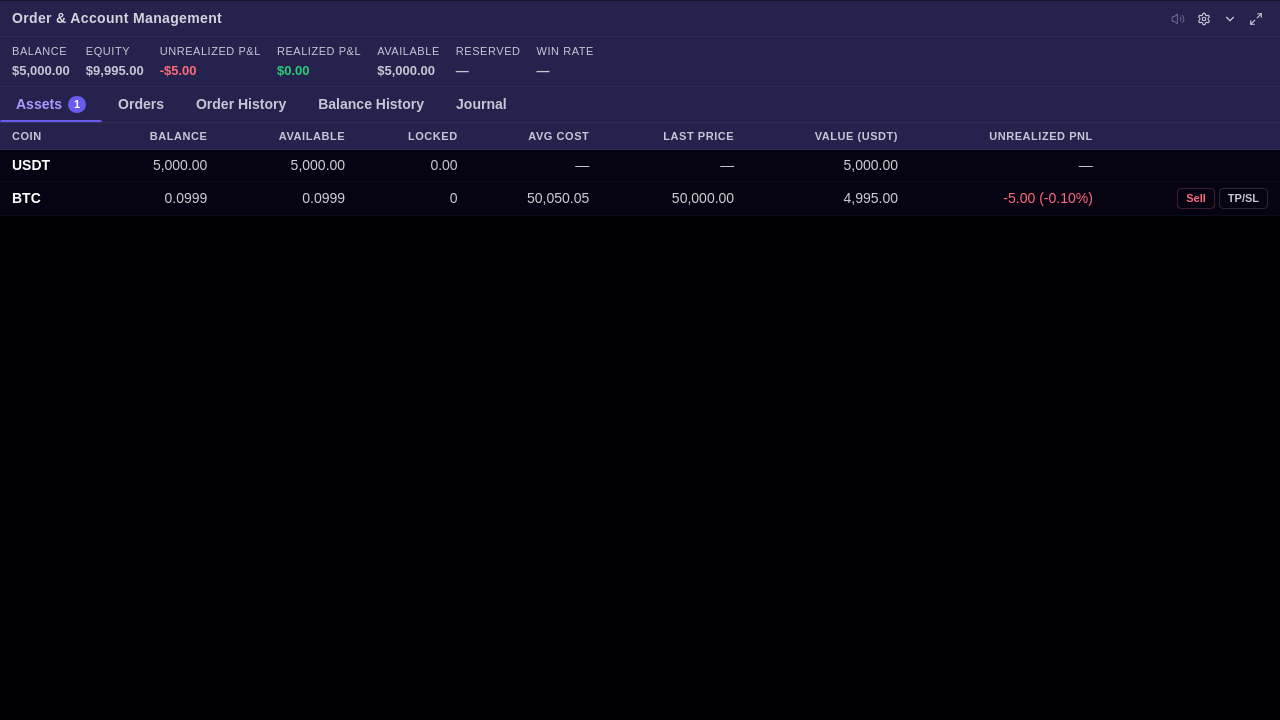
SpotExitsModal — Assets → TP / SL (14.6.7) › [14.6.7] should refuse without asking the server when the quantity is more than the free balance
The width and height of the screenshot is (1280, 720).
Click the button "TP/SL".
click(1243, 198)  # box [1219,188,1268,209]
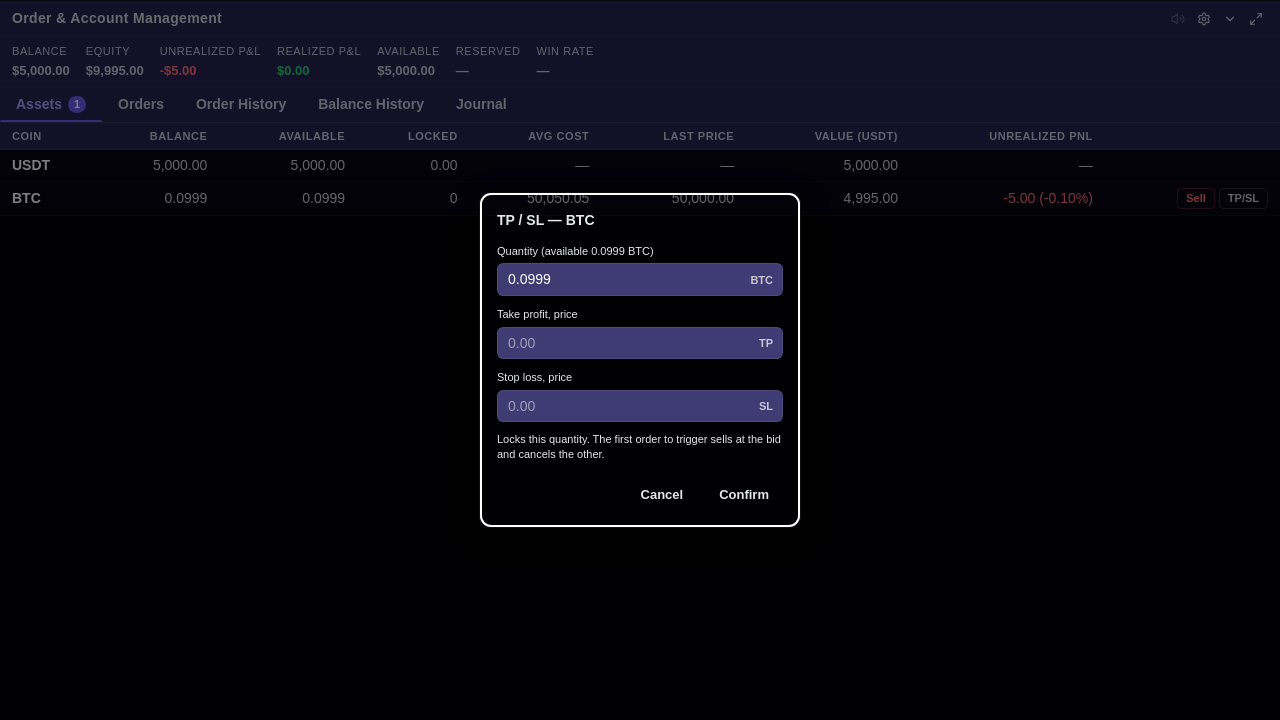
Replace the text in the number field named "Quantity" with "0.1" at (640, 280), box [497,263,783,296]
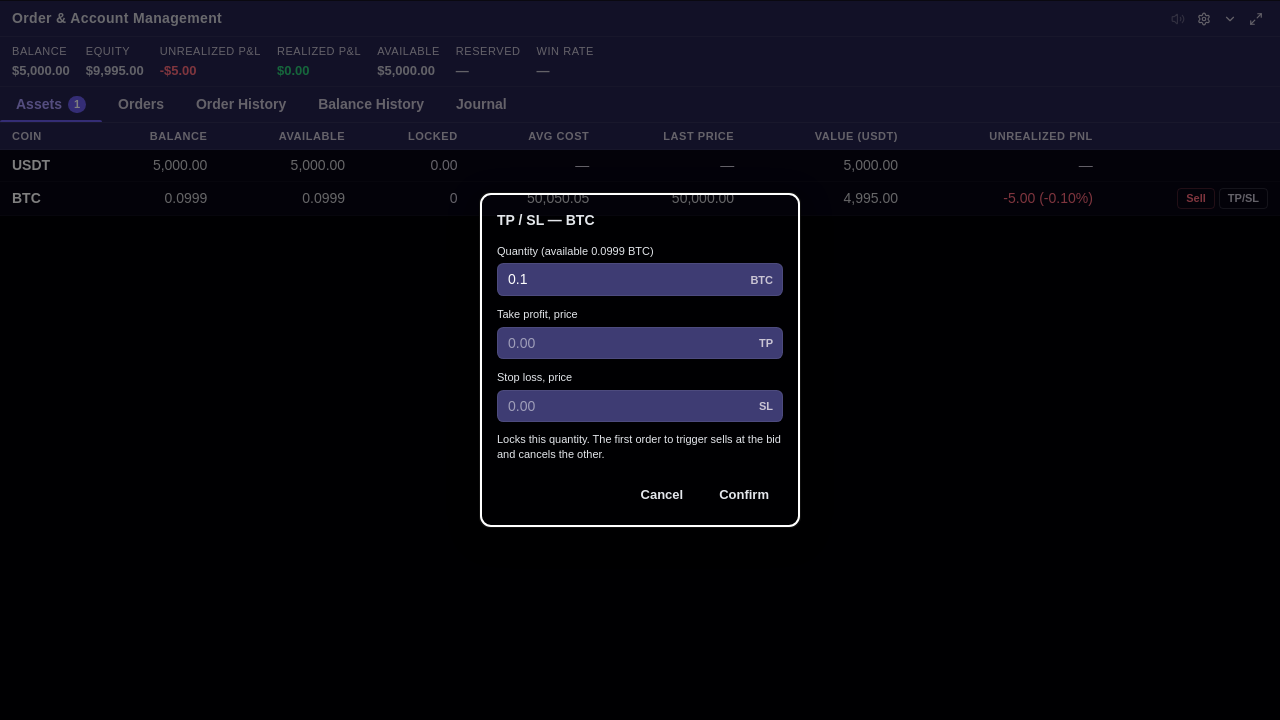
Type "52000" into the number field named "Take profit price".
click(640, 343); type("52000")  # box [497,326,783,359]
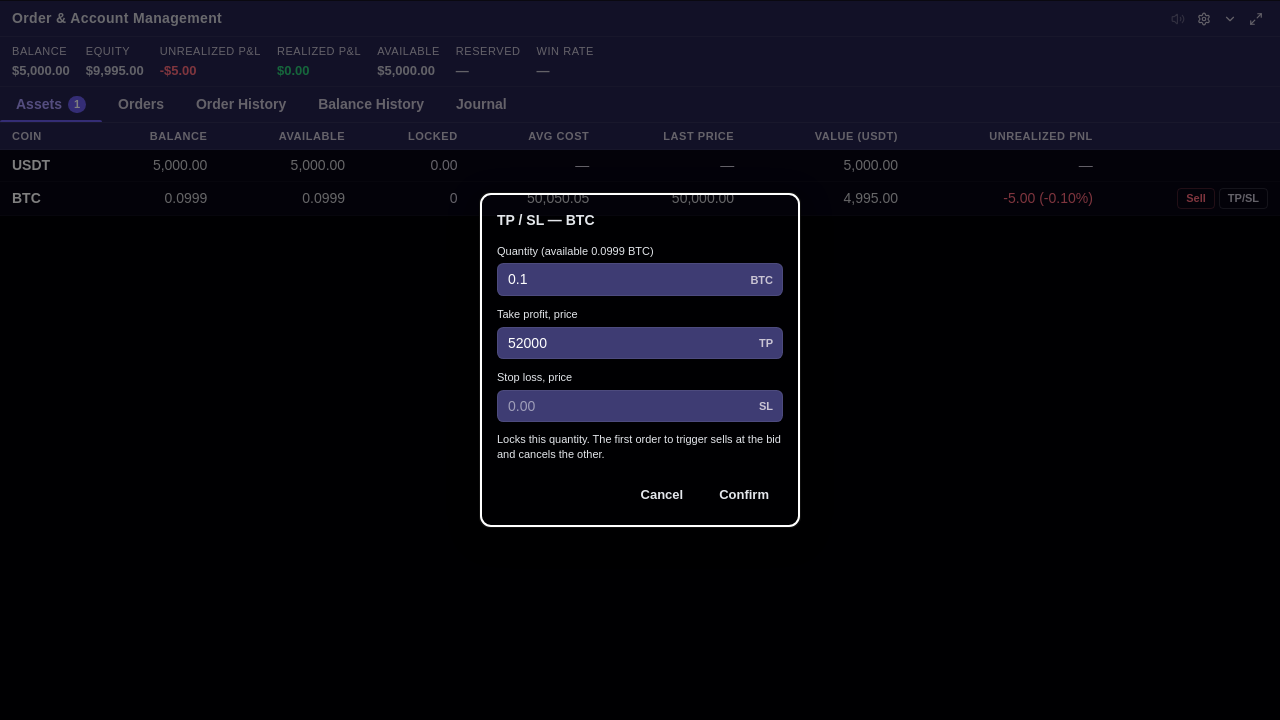
Click the button "Confirm".
click(744, 494)  # box [705,479,783,510]
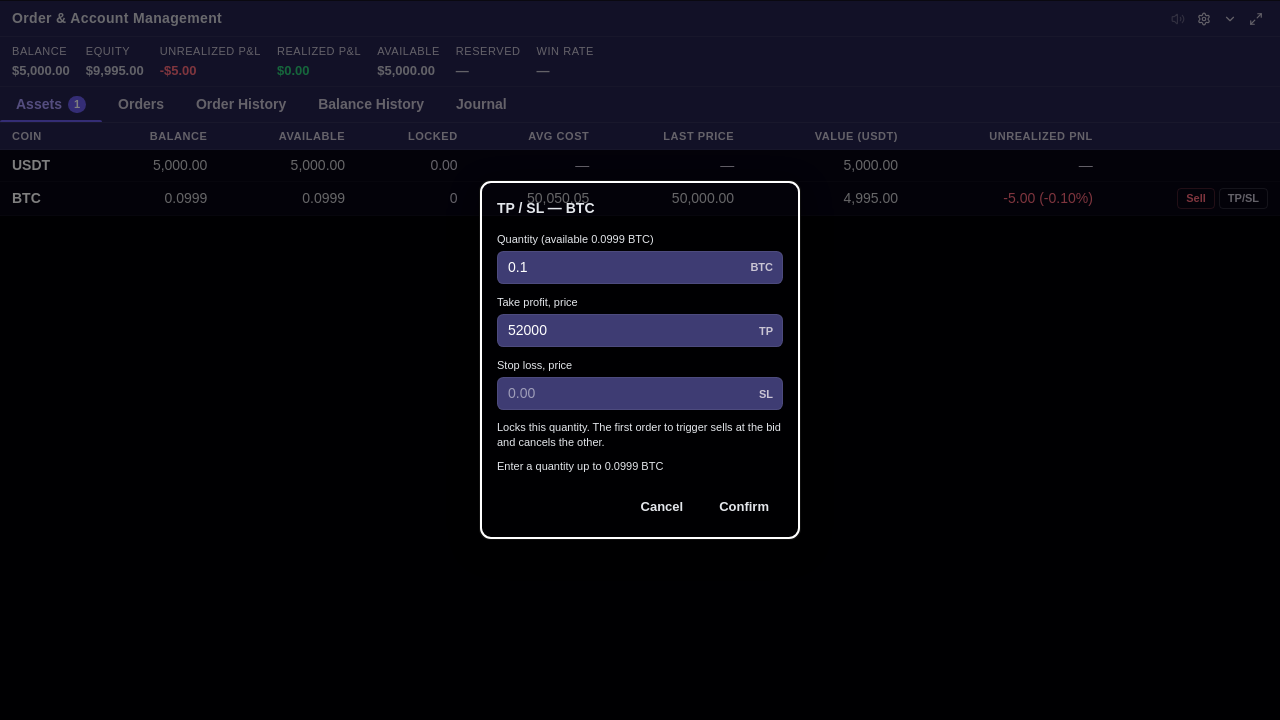
Expected: the dialog is shown, [480,181,800,539]
Expected: the message reads "Enter a quantity up to 0.0999 BTC", [497,460,663,472]
